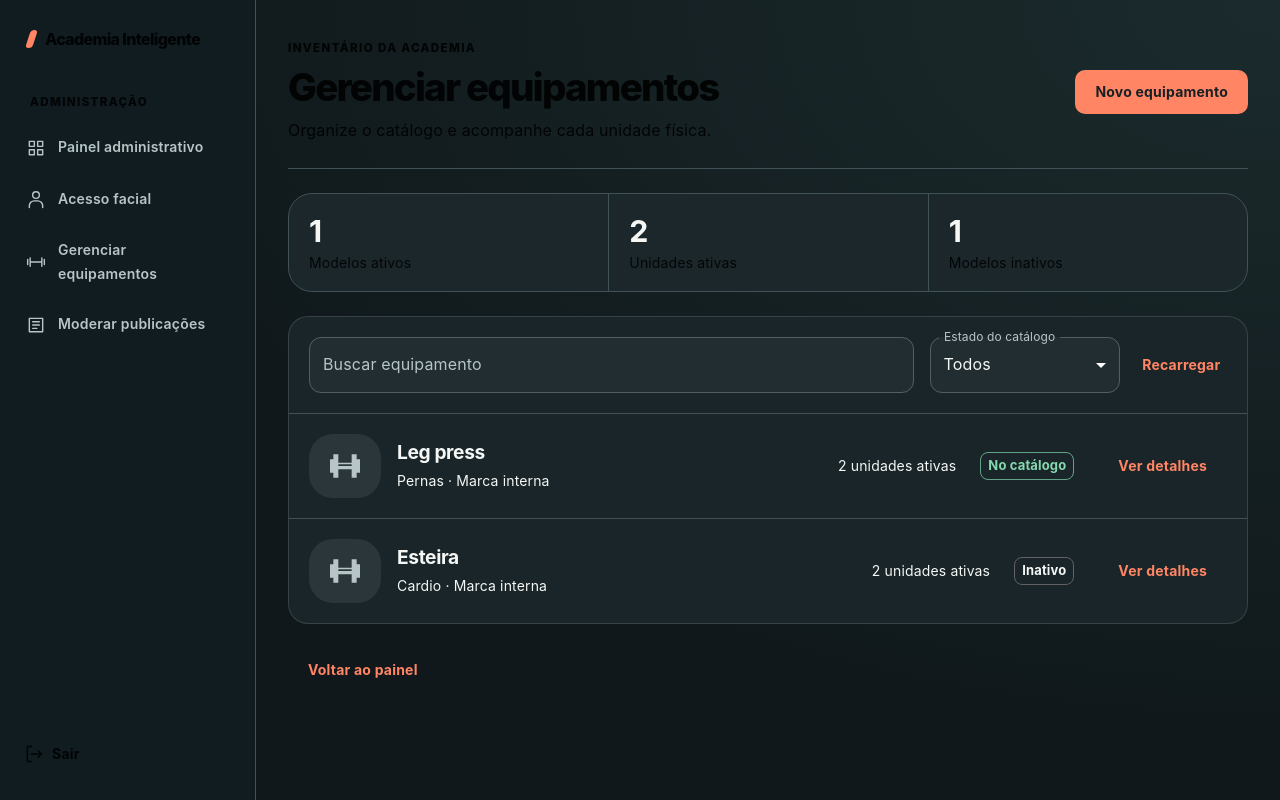
Test case: searches internal fields and keeps editing inside equipment details
The width and height of the screenshot is (1280, 800).
Check: the heading "Esteira" is shown, box [397,545,459,569]
Type "pernas" into the field labelled "Buscar equipamento".
click(611, 365); type("pernas")  # box [309,337,914,393]
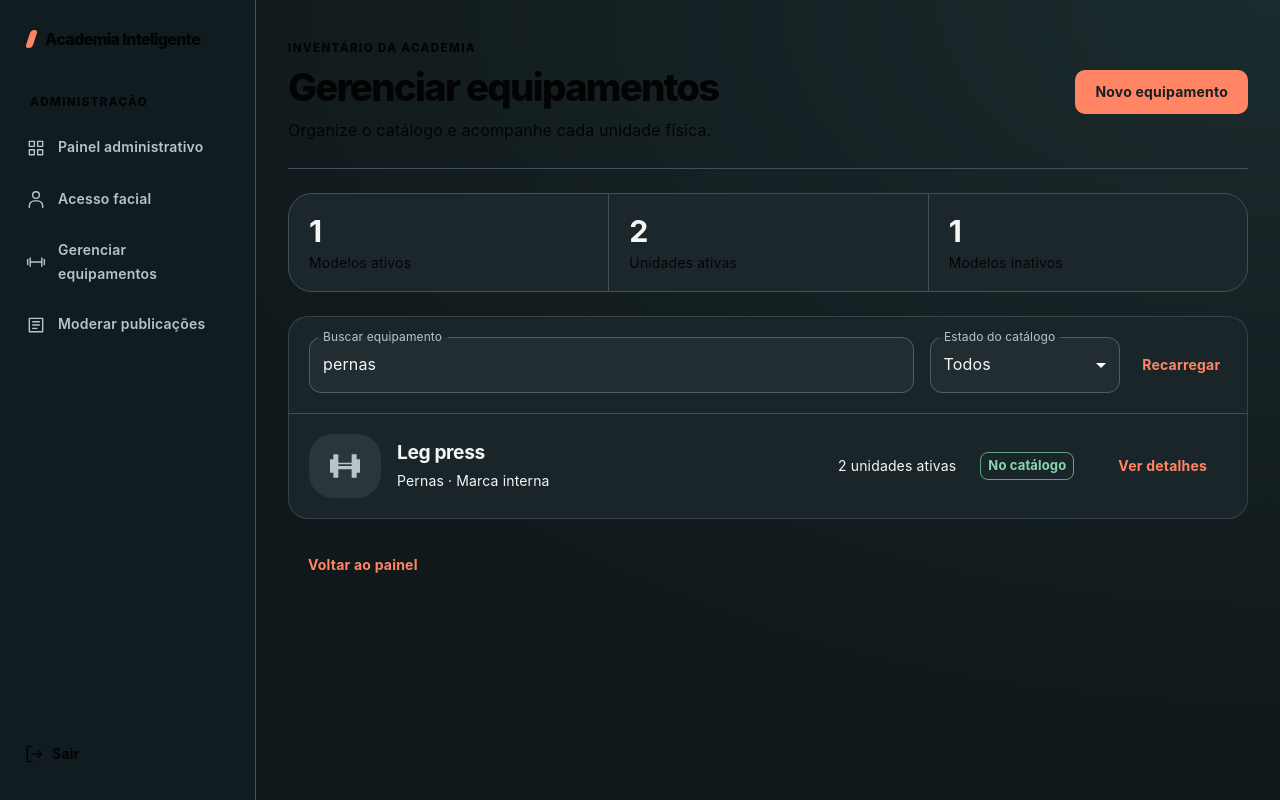
Check: the heading "Esteira" is gone
Click the button with aria-label "Ver detalhes de Leg press".
click(1163, 466)  # box [1098,444,1227,488]
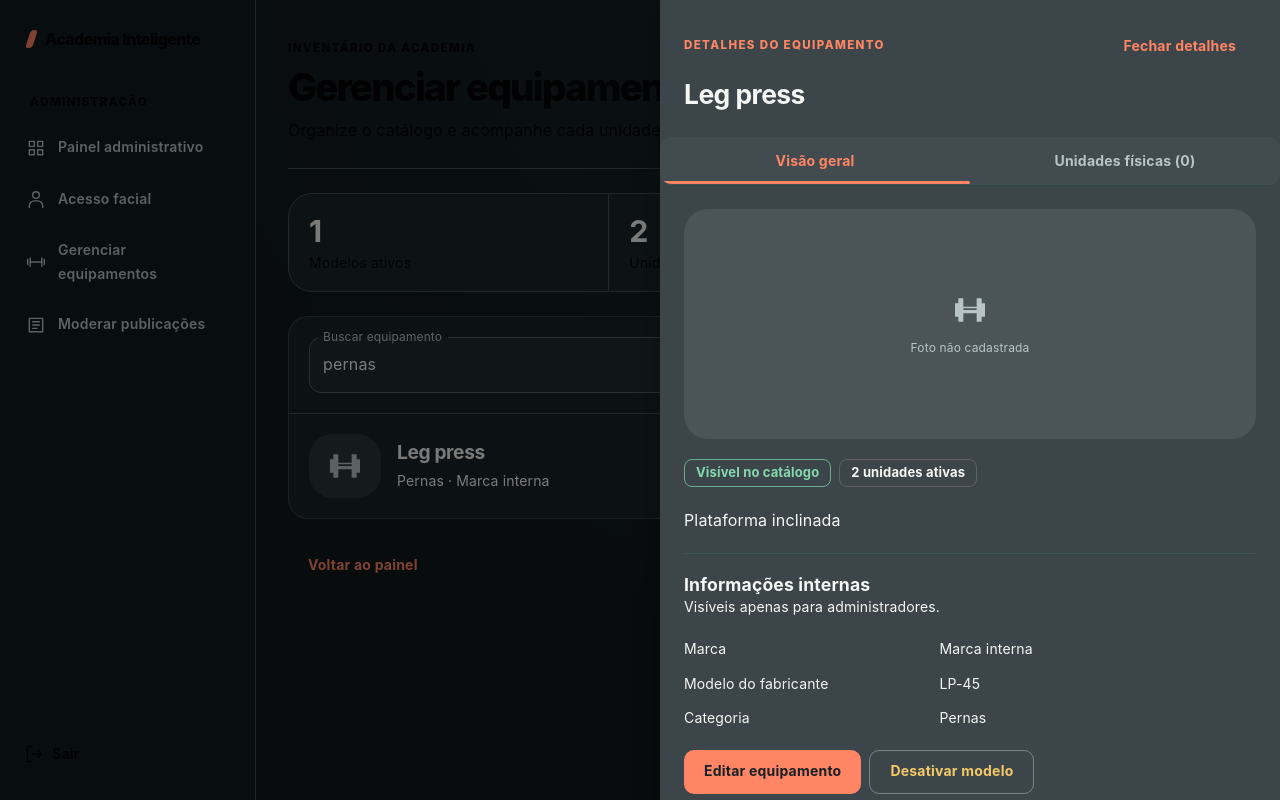
Check: the text "LP-45" is shown, box [940,675,980,692]
Click the button "Editar equipamento".
click(773, 772)  # box [684,750,861,794]
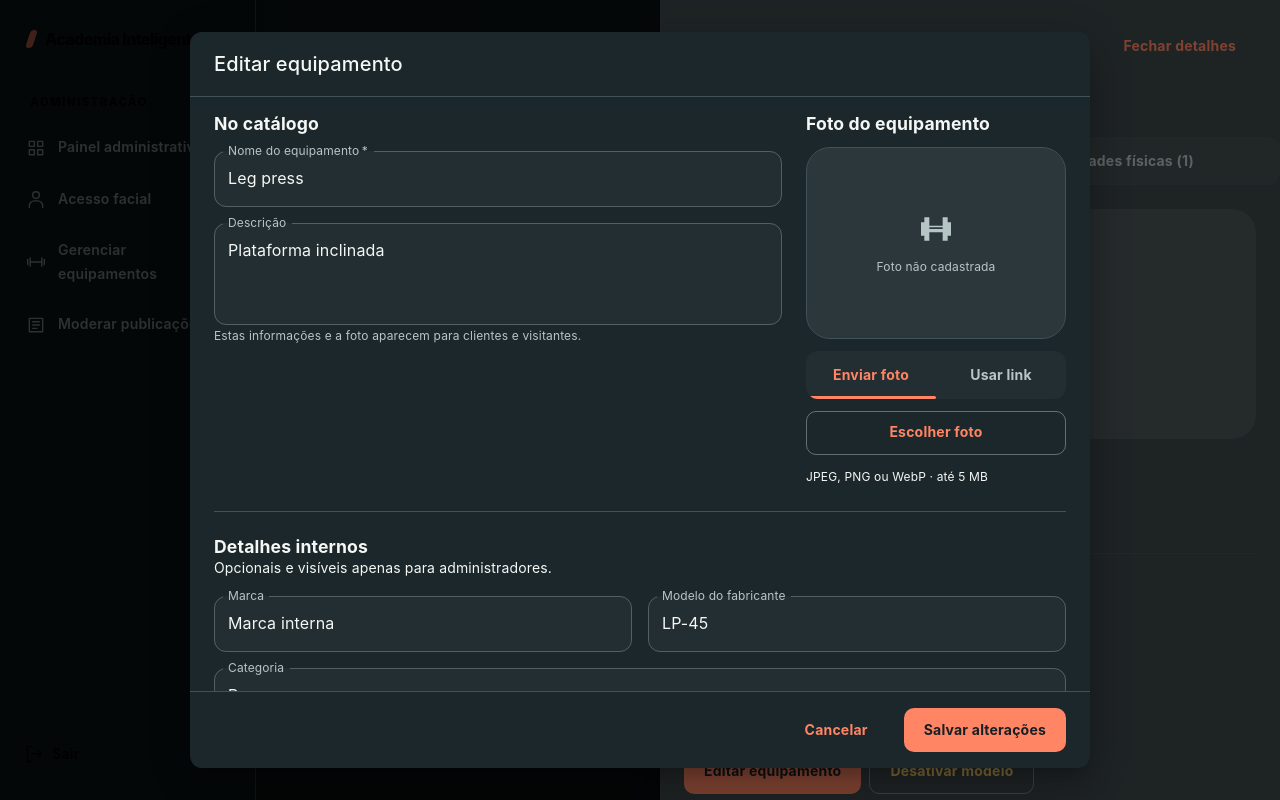
Check: the dialog "Editar equipamento" is shown
Check: the field labelled "Nome do equipamento" holds "Leg press", box [214,151,782,207]
